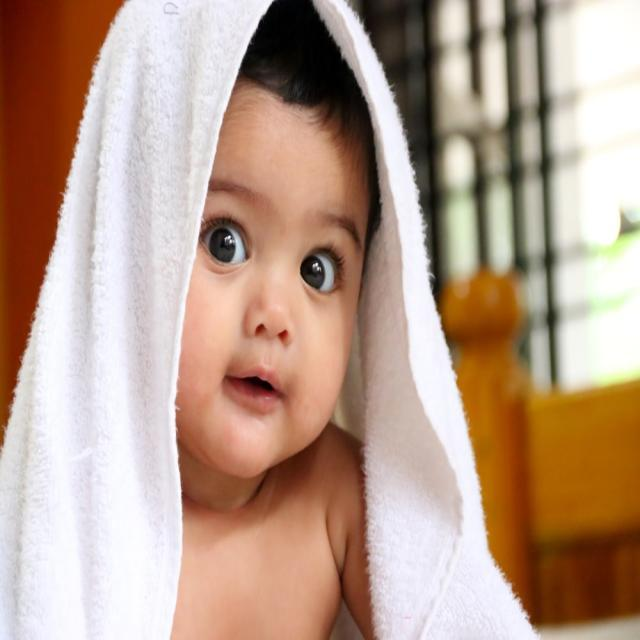non-dog: (169, 4, 394, 640)
